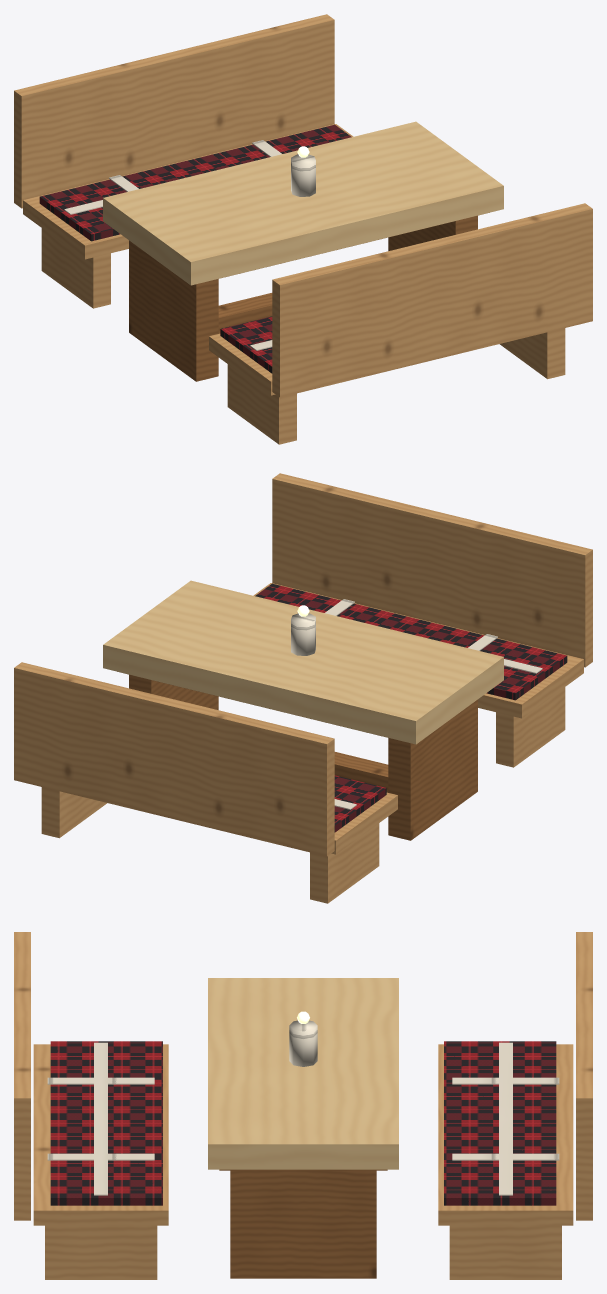
Rendered from table-ca-4.glb.
3 renders of one model, top to bottom at view 1: azimuth 30°, elevation 25°; view 2: azimuth 150°, elevation 25°; view 3: azimuth 270°, elevation 25°, orthographic. The views are drawn at different scales.
Parts seen in each view (by area): view 1: BenchFront, BenchBack, Top, Legs, BenchBackCushion, BenchFrontCushion, Candle, BenchBackStripes; view 2: BenchBack, BenchFront, Top, Legs, BenchFrontCushion, BenchBackCushion, Candle, BenchFrontStripes; view 3: Top, BenchBack, BenchFront, Legs, BenchBackCushion, BenchFrontCushion, BenchBackStripes, BenchFrontStripes, Candle.
Part boxes in pixels (x1,y1,x2,y2): BenchFront: (209, 203, 592, 444); BenchBack: (14, 14, 353, 308); Top: (103, 121, 503, 285); Legs: (129, 215, 477, 381); BenchBackCushion: (39, 124, 351, 241); BenchFrontCushion: (220, 316, 272, 373); Candle: (291, 154, 315, 196); BenchBackStripes: (64, 140, 281, 214); BenchBack: (14, 662, 397, 903); BenchFront: (253, 473, 592, 767); Top: (103, 580, 503, 744); Legs: (129, 674, 477, 840); BenchFrontCushion: (255, 583, 567, 700); BenchBackCushion: (334, 775, 386, 832); Candle: (291, 613, 315, 655); BenchFrontStripes: (325, 599, 542, 673); Top: (208, 978, 398, 1169); BenchBack: (438, 932, 592, 1279); BenchFront: (14, 932, 168, 1279); Legs: (230, 1170, 376, 1278); BenchBackCushion: (444, 1041, 556, 1205); BenchFrontCushion: (50, 1041, 162, 1205); BenchBackStripes: (452, 1042, 559, 1195); BenchFrontStripes: (47, 1042, 154, 1195); Candle: (289, 1020, 317, 1066).
Size of the model in its own units: 0.07 by 0.0377 by 0.103.
Materials: 6 (5 with a texture image).
